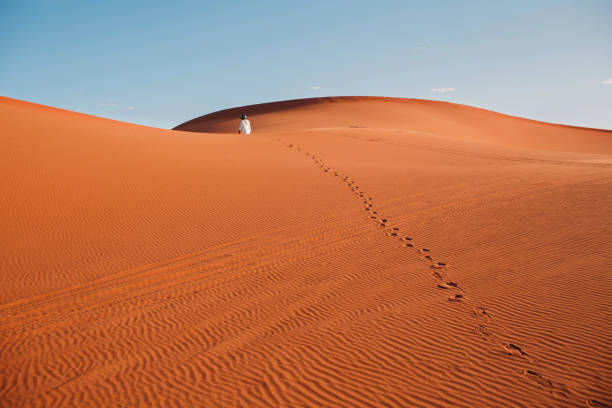human_footprint: (311, 154, 387, 227)
